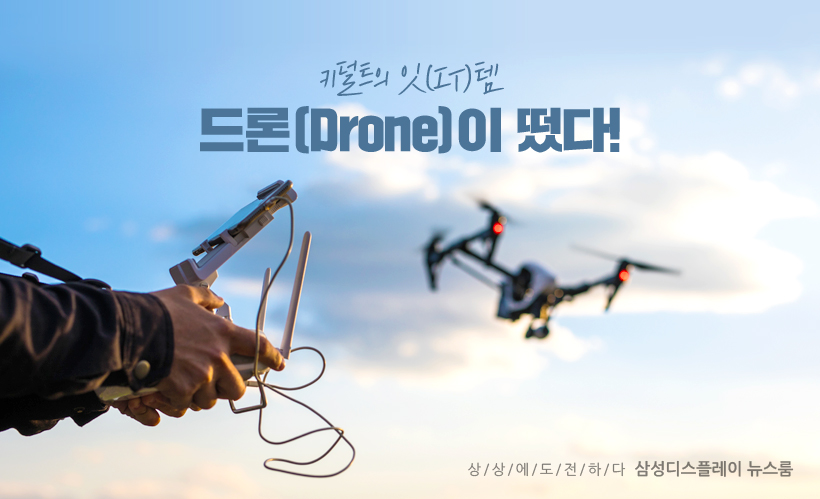drone: (408, 184, 699, 356)
